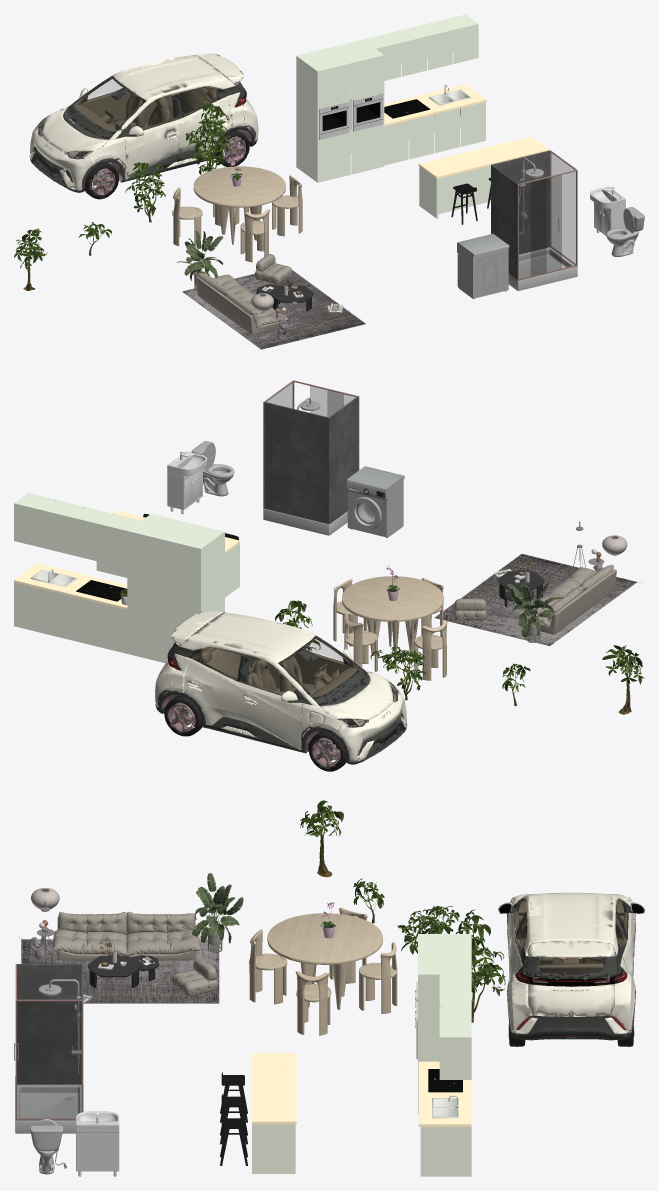
File: interieur.glb
The picture shows the model from 3 angles, top to bottom: view 1: azimuth 30°, elevation 25°; view 2: azimuth 150°, elevation 25°; view 3: azimuth 270°, elevation 25°; orthographic projection. The views are drawn at different scales.
Parts seen in each view (by area): view 1: Object_3 (×2), Cupboards_Cupboard_0, Stool_02_Wood_0, Object_6, Material2_15, pachira_aquatica_01_leaves_a, Counters_Counter_0, Material2_38, Cylinder007_T_Washing_Machine_1_0, Object_2, Hob_Hob_0, Ovens_Handles_0 (+7 smaller); view 2: Object_3 (×2), Cupboards_Cupboard_0, Object_6, Stool_02_Wood_0, Material2_15, Material2_38, Cylinder007_T_Washing_Machine_1_0, pachira_aquatica_01_leaves_a, Counters_Counter_0, Sink_Main_M_Ceramics_0, Material2_32, Object_74 (+4 smaller); view 3: Object_3 (×2), Cupboards_Cupboard_0, Stool_02_Wood_0, Object_6, Material2_38, Counters_Counter_0, Material2_15, pachira_aquatica_01_leaves_a, Object_2 (×2), Sink_Main_M_Ceramics_0, Material2_32, Stools_Chair_0 (+7 smaller).
Boxes of the visible parts, box(x1,y1,x2,y2) form: Object_3 (×2): box(29, 53, 575, 278); Cupboards_Cupboard_0: box(296, 14, 490, 218); Stool_02_Wood_0: box(172, 166, 302, 262); Object_6: box(491, 150, 577, 280); Material2_15: box(182, 270, 365, 349); pachira_aquatica_01_leaves_a: box(14, 101, 230, 269); Counters_Counter_0: box(384, 84, 549, 178); Material2_38: box(195, 254, 292, 335); Cylinder007_T_Washing_Machine_1_0: box(457, 233, 509, 298); Object_2: box(508, 247, 577, 290); Hob_Hob_0: box(320, 98, 430, 134); Ovens_Handles_0: box(319, 86, 383, 139); Object_3 (×2): box(155, 383, 407, 767); Cupboards_Cupboard_0: box(14, 493, 239, 663); Object_6: box(263, 380, 359, 524); Stool_02_Wood_0: box(333, 576, 447, 680); Material2_15: box(434, 554, 636, 645); Material2_38: box(454, 564, 616, 634); Cylinder007_T_Washing_Machine_1_0: box(346, 466, 404, 537); pachira_aquatica_01_leaves_a: box(275, 600, 644, 693); Counters_Counter_0: box(14, 510, 239, 609); Sink_Main_M_Ceramics_0: box(167, 451, 207, 509); Material2_32: box(506, 581, 563, 637); Object_74: box(164, 695, 346, 771); Object_3 (×2): box(17, 893, 644, 1118); Cupboards_Cupboard_0: box(252, 934, 471, 1176); Stool_02_Wood_0: box(249, 907, 397, 1035); Object_6: box(14, 964, 83, 1120); Material2_38: box(52, 911, 217, 996); Counters_Counter_0: box(252, 1053, 471, 1126); Material2_15: box(21, 939, 219, 1003); pachira_aquatica_01_leaves_a: box(300, 800, 505, 995); Object_2 (×2): box(15, 970, 627, 1133); Sink_Main_M_Ceramics_0: box(76, 1111, 119, 1171); Material2_32: box(192, 873, 243, 943); Stools_Chair_0: box(220, 1072, 247, 1165).
Size of the model in its own units: 9.85 by 2.04 by 8.39.
63 materials, 56 textured.
